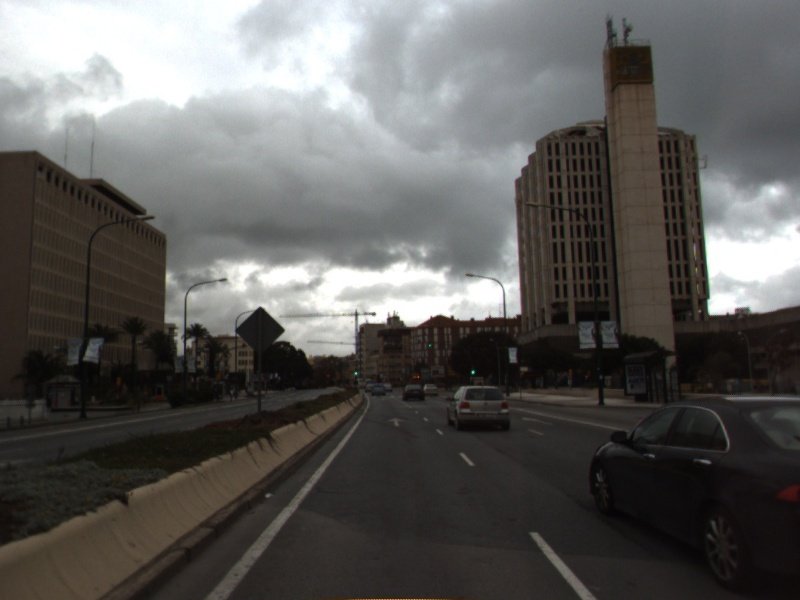STRAIGHT: (520, 415, 555, 427), (385, 415, 408, 429)
